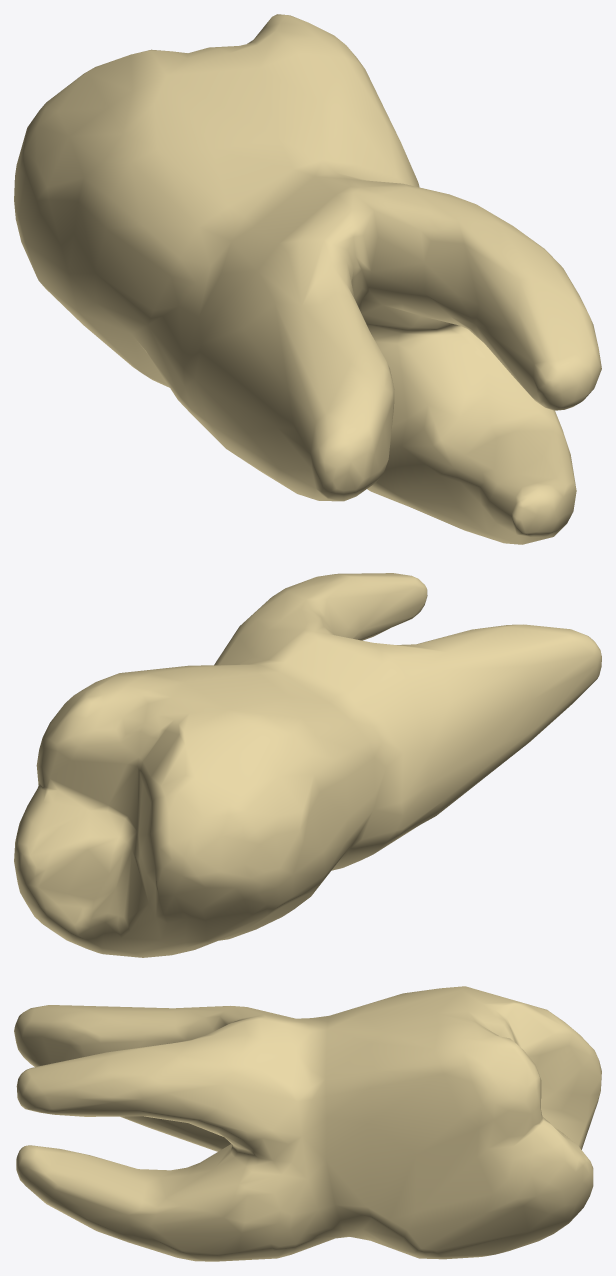
3 renders of one model, top to bottom at view 1: azimuth 30°, elevation 25°; view 2: azimuth 150°, elevation 25°; view 3: azimuth 270°, elevation 25°, orthographic. The views are drawn at different scales.
Parts seen in each view (by area): view 1: 左侧上颌第二磨牙; view 2: 左侧上颌第二磨牙; view 3: 左侧上颌第二磨牙.
Boxes of the visible parts, x1,y1,x2,y2 form: 左侧上颌第二磨牙: (14,14,601,544); 左侧上颌第二磨牙: (14,573,601,957); 左侧上颌第二磨牙: (14,986,601,1261).
Size of the model in its own units: 0.0172 by 0.0142 by 0.0326.
